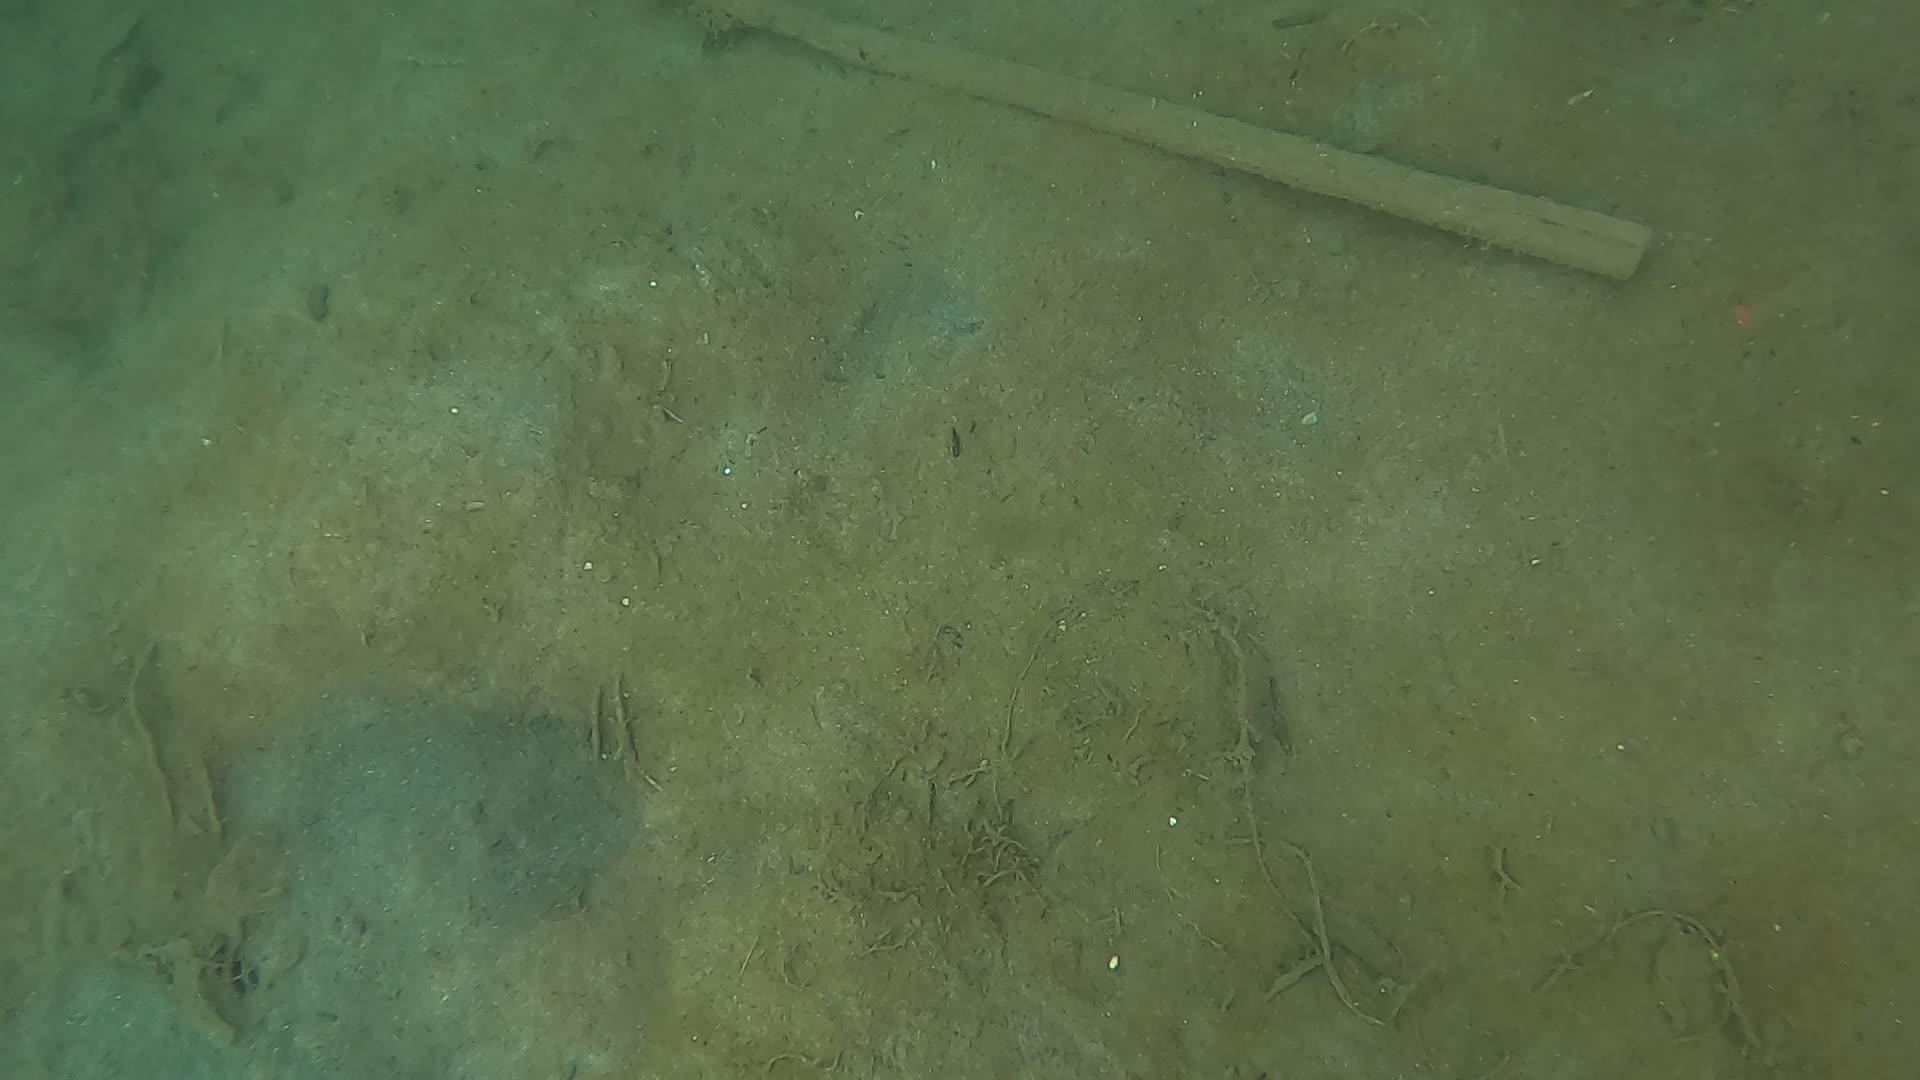wood: (708, 0, 1654, 280)
